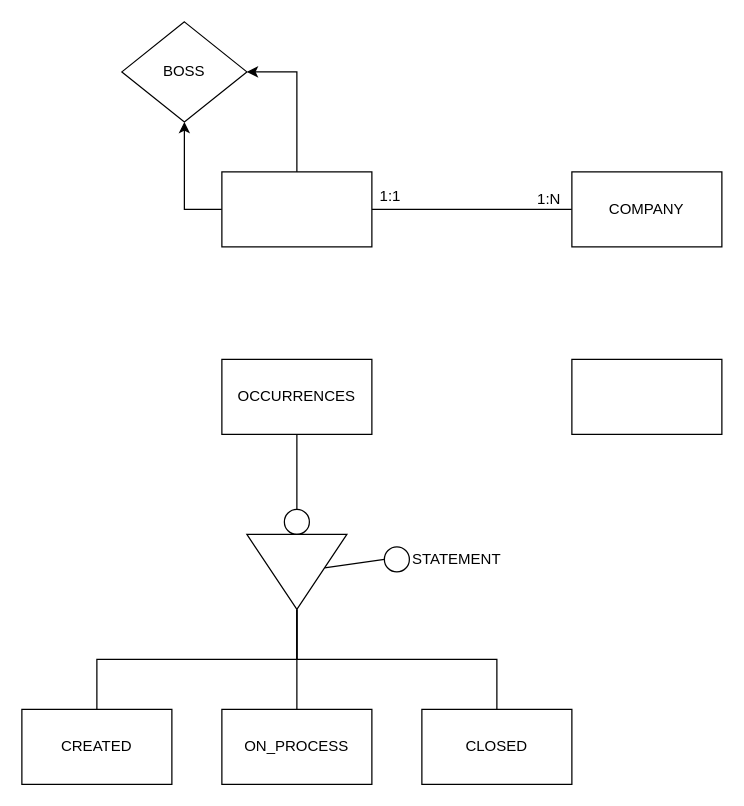
Image size: 744x806. Some labels were removed from this diagram. The box of each missing label's shape, as (x1, y1, x2, y2) in pixels:
CLIENTS: (571, 358, 722, 434)
USERS: (221, 171, 372, 247)
